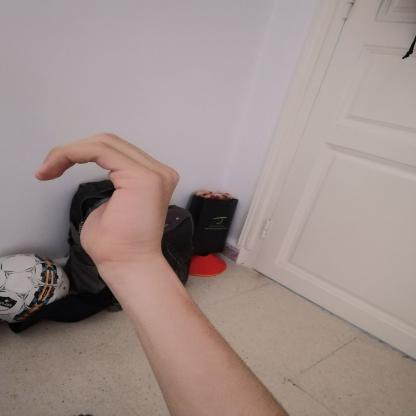HAA: (15, 122, 196, 274)
